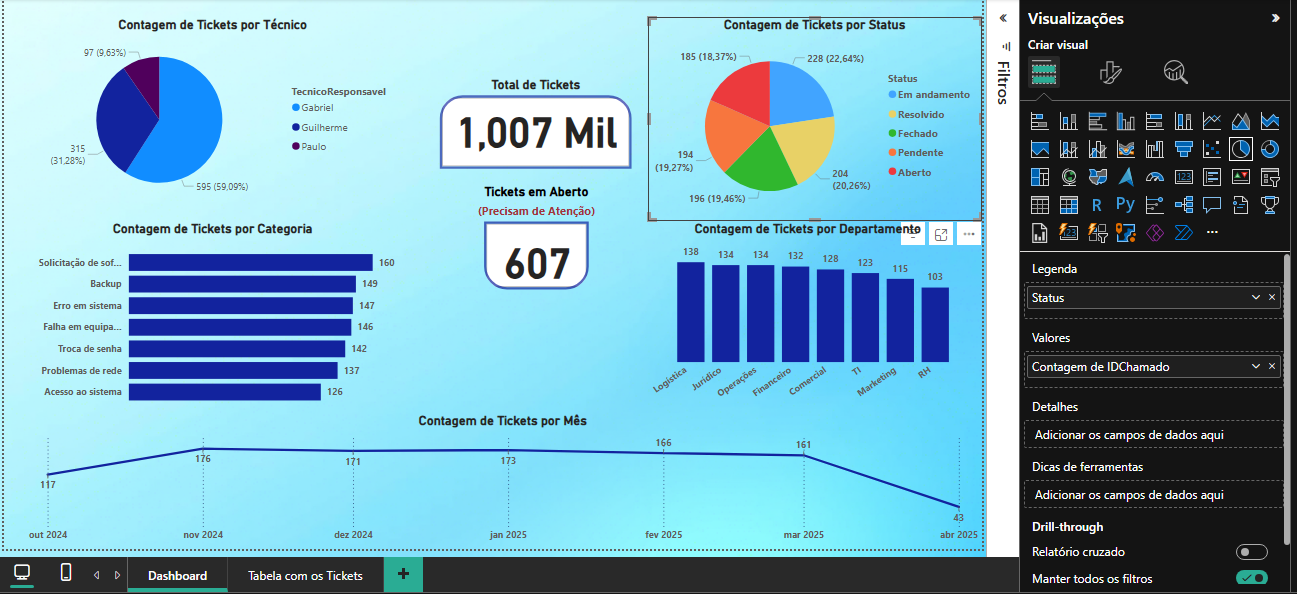

What the dashboard file says about the page in this screenshot:
{"tool":"powerbi","page":{"name":"Dashboard","canvas":[1280,720],"ordinal":0},"visuals":[{"type":"pieChart","title":"Contagem de Tickets por Status","fields":{"Category":["chamados.Status"],"Y":["CountNonNull(chamados.IDChamado)"]},"box":[843.7,23.4,436.3,267],"z":0},{"type":"pieChart","title":"Contagem de Tickets por Técnico","fields":{"Category":["chamados.TecnicoResponsavel"],"Y":["CountNonNull(chamados.IDChamado)"]},"box":[26.2,23.4,494.1,250.5],"z":1},{"type":"clusteredBarChart","title":"Contagem de Tickets por Categoria","fields":{"Category":["chamados.Categoria"],"Y":["Count(chamados.IDChamado)"]},"box":[26.2,290.4,494.1,251.9],"z":2},{"type":"cardVisual","title":"Total de Tickets","fields":{"Data":["Count(chamados.IDChamado)"]},"box":[565.7,101.8,261.5,125.2],"z":3},{"type":"cardVisual","title":"Tickets em Aberto","fields":{"Data":["Count(chamados.IDChamado)"]},"box":[602.8,242.2,187.2,143.1],"z":4},{"type":"lineChart","title":"Contagem de Tickets por Mês","fields":{"Category":["chamados.DataAbertura.Variation.Hierarquia de datas.Ano","chamados.DataAbertura.Variation.Hierarquia de datas.Mês"],"Y":["CountNonNull(chamados.IDChamado)"]},"box":[26.2,542.3,1253.8,177.5],"z":5},{"type":"columnChart","title":"Contagem de Tickets por Departamento","fields":{"Category":["chamados.Departamento"],"Y":["CountNonNull(chamados.IDChamado)"]},"box":[843.7,290.4,418.4,251.9],"z":6}]}

Visuals, with their boxes on the page's 1280x720 design canvas (x1, y1, x2, y2). These are canvas units, not pixel positions in the 1297x594 screenshot, which may show the page scaled, cropped or inside an application window:
"Contagem de Tickets por Status" pieChart: select_region(844, 23, 1280, 290)
"Contagem de Tickets por Técnico" pieChart: select_region(26, 23, 520, 274)
"Contagem de Tickets por Categoria" clusteredBarChart: select_region(26, 290, 520, 542)
"Total de Tickets" cardVisual: select_region(566, 102, 827, 227)
"Tickets em Aberto" cardVisual: select_region(603, 242, 790, 385)
"Contagem de Tickets por Mês" lineChart: select_region(26, 542, 1280, 720)
"Contagem de Tickets por Departamento" columnChart: select_region(844, 290, 1262, 542)
